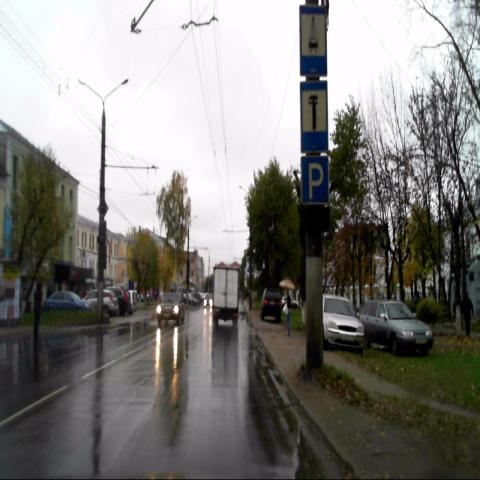7_4: (300, 82, 328, 154)
7_5: (299, 3, 328, 78)
